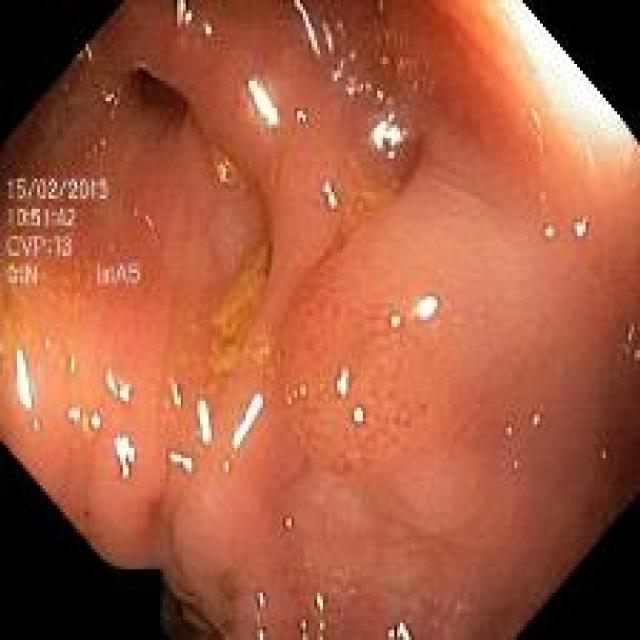Polyps: (282, 177, 556, 534)
